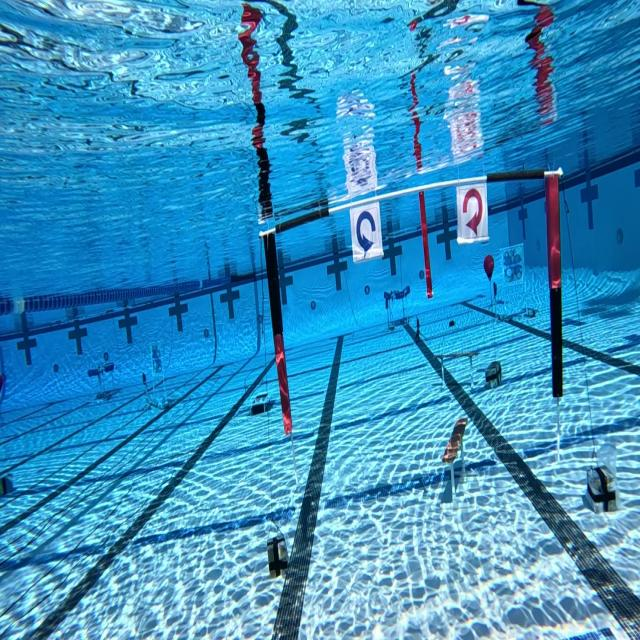blue_side: (347, 202, 385, 277)
red_side: (452, 184, 492, 250)
